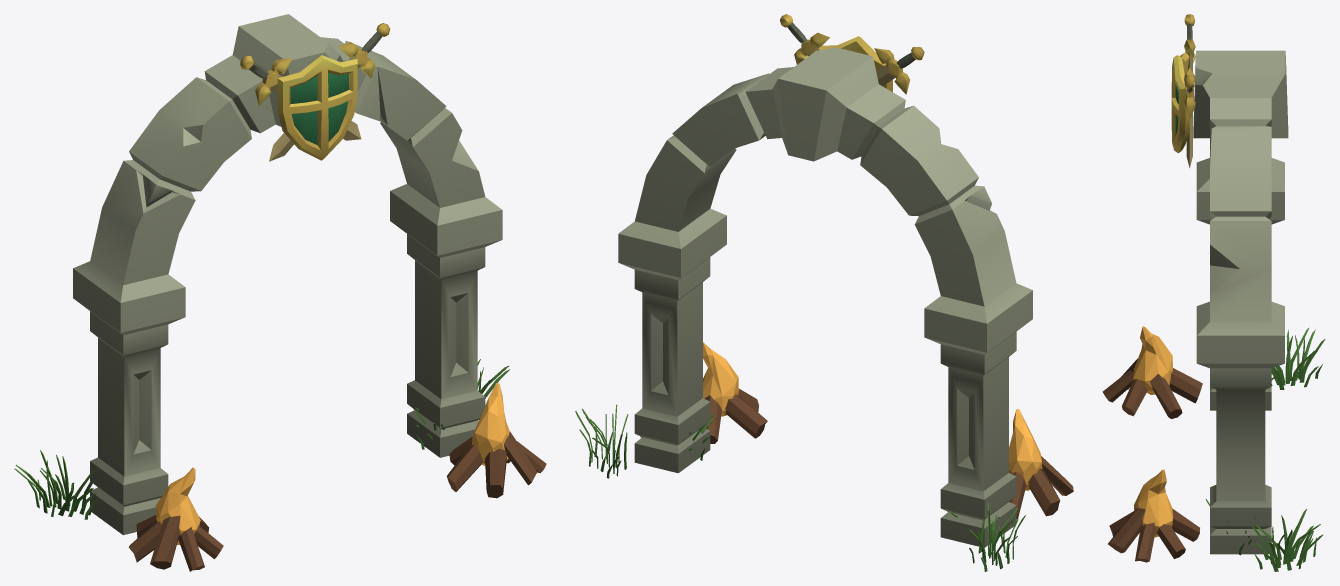
The model's file is boss_gate.fbx.
3 views of the same model, side by side, from view 1: azimuth 30°, elevation 25°; view 2: azimuth 150°, elevation 25°; view 3: azimuth 270°, elevation 25° (orthographic). The views are drawn at different scales.
Visible parts, largest first — view 1: boss_gate; view 2: boss_gate; view 3: boss_gate.
Boxes of the visible parts, box(x1,y1,x2,y2) form: boss_gate: box(14, 14, 546, 571); boss_gate: box(575, 14, 1073, 571); boss_gate: box(1102, 14, 1325, 571).
Size of the model in its own units: 4.99 by 4.66 by 2.18.
